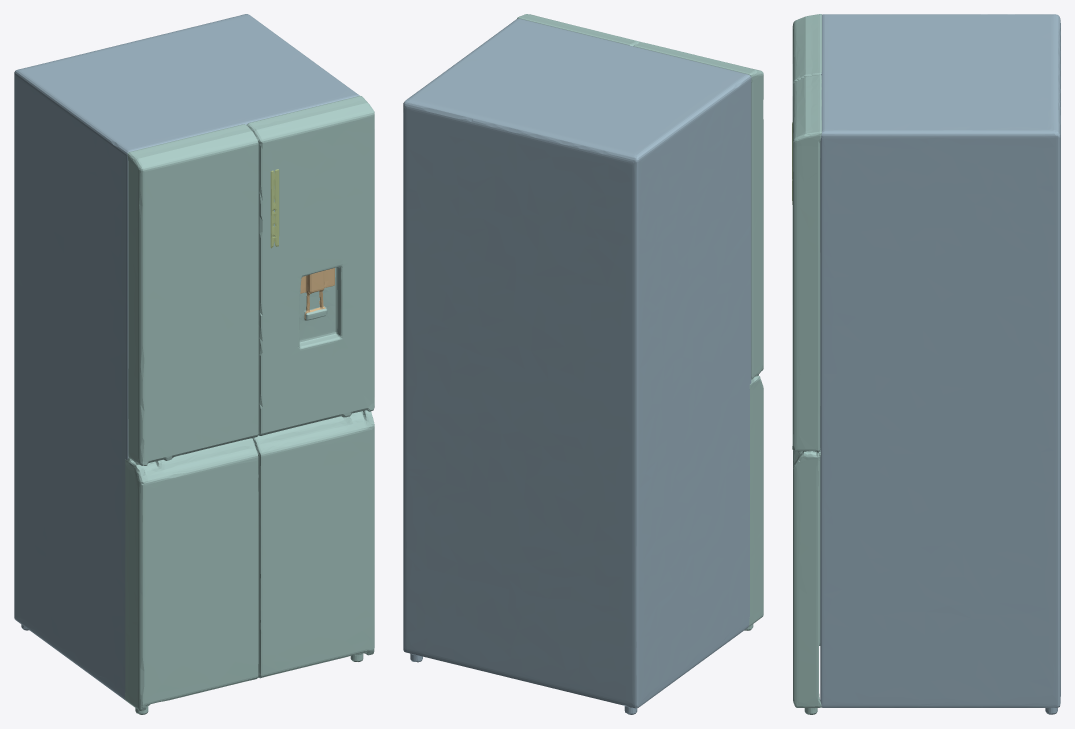
The picture shows the model from 3 angles, left to right: view 1: azimuth 30°, elevation 25°; view 2: azimuth 150°, elevation 25°; view 3: azimuth 270°, elevation 25°; orthographic projection. The views are drawn at different scales.
Visible parts, largest first — view 1: world; view 2: world; view 3: world.
Boxes of the visible parts, x1,y1,x2,y2 form: world: [14, 14, 374, 714]; world: [403, 14, 763, 714]; world: [792, 14, 1060, 714].
Bounding box in the file's own units: 0.84 × 1.91 × 0.7939.
